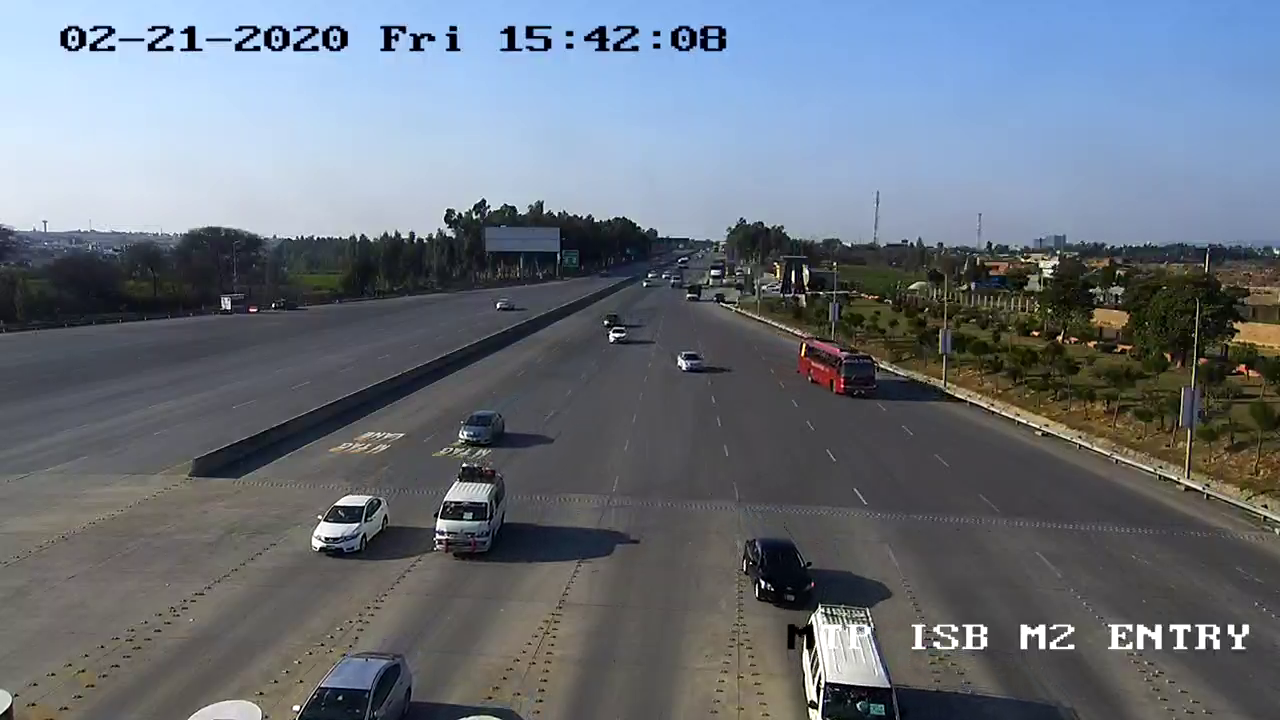f1: (303, 478, 397, 566), (732, 526, 825, 614), (449, 406, 514, 460)
f2: (420, 460, 520, 575)
f4: (791, 328, 883, 409)
